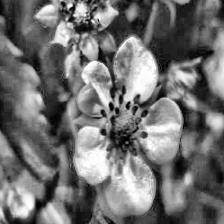Blossom Blight: (96, 84, 152, 162), (53, 0, 107, 48)
